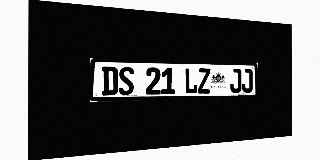1: (161, 67, 175, 94)
2: (146, 67, 160, 95)
D: (102, 66, 118, 95)
J: (230, 69, 241, 93), (242, 69, 253, 93)
L: (185, 68, 198, 94)
S: (119, 67, 134, 95)
Z: (198, 68, 210, 94)
